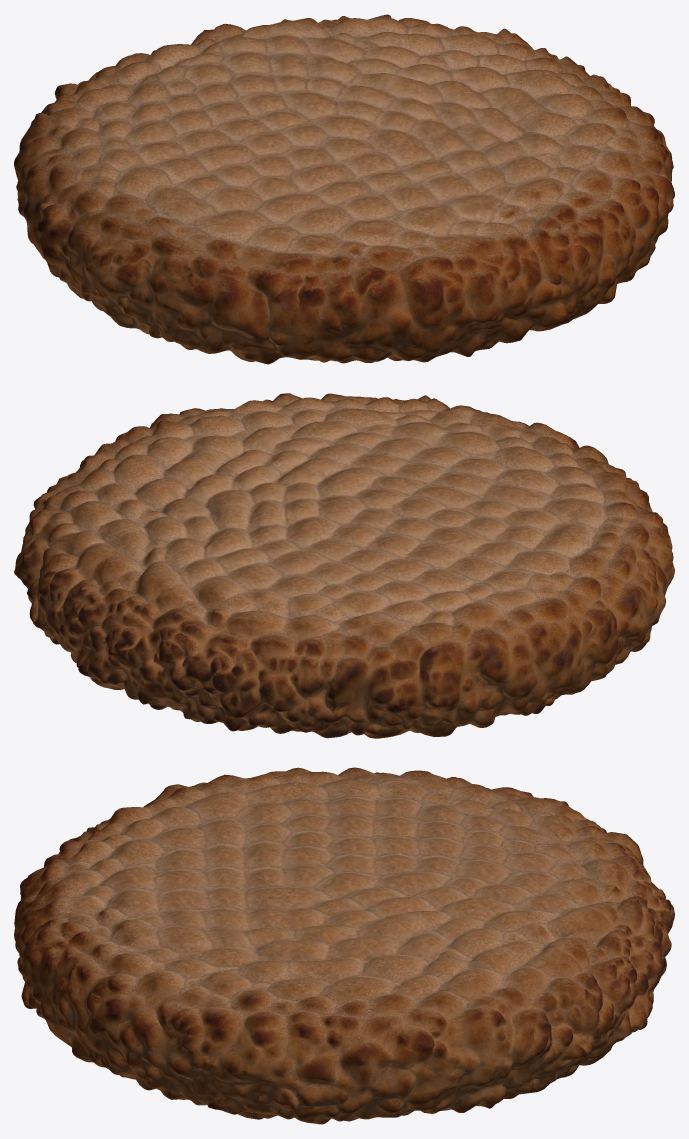
The model's file is patty.glb.
3 renders of one model, top to bottom at view 1: azimuth 30°, elevation 25°; view 2: azimuth 150°, elevation 25°; view 3: azimuth 270°, elevation 25°, orthographic.
Size of the model in its own units: 1.9 by 0.4326 by 1.9.
Materials: 1 (1 with a texture image).
